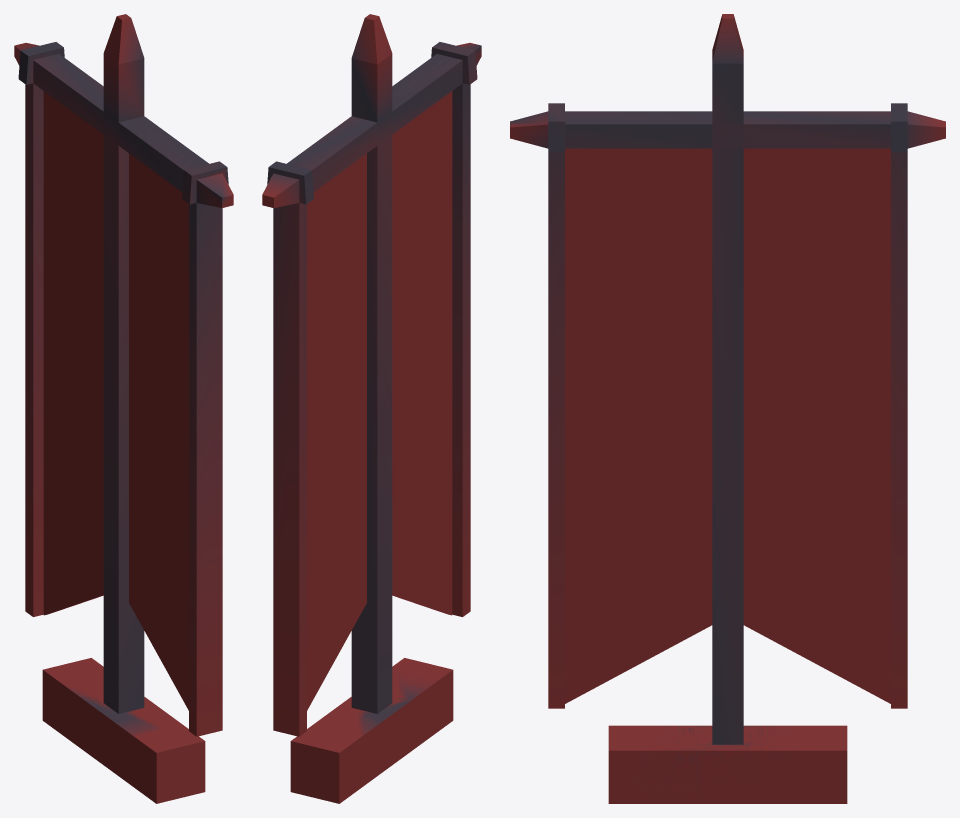
File: flag.fbx
3 renders of one model, left to right at view 1: azimuth 30°, elevation 25°; view 2: azimuth 150°, elevation 25°; view 3: azimuth 270°, elevation 25°, orthographic. The views are drawn at different scales.
Visible parts, largest first — view 1: Cube.003; view 2: Cube.003; view 3: Cube.003.
Boxes of the visible parts, bbox=[...] form: Cube.003: bbox=[14, 14, 233, 803]; Cube.003: bbox=[262, 14, 481, 803]; Cube.003: bbox=[510, 14, 945, 803].
Size of the model in its own units: 16.8 by 243 by 124.
